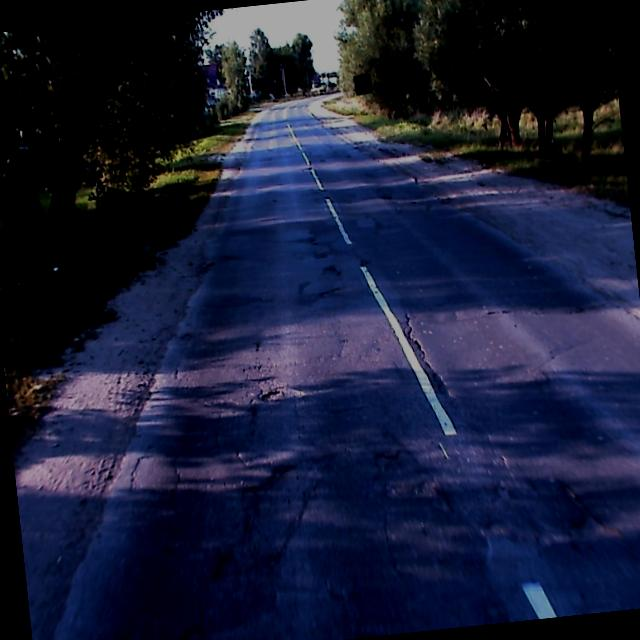road: (65, 101, 640, 640)
